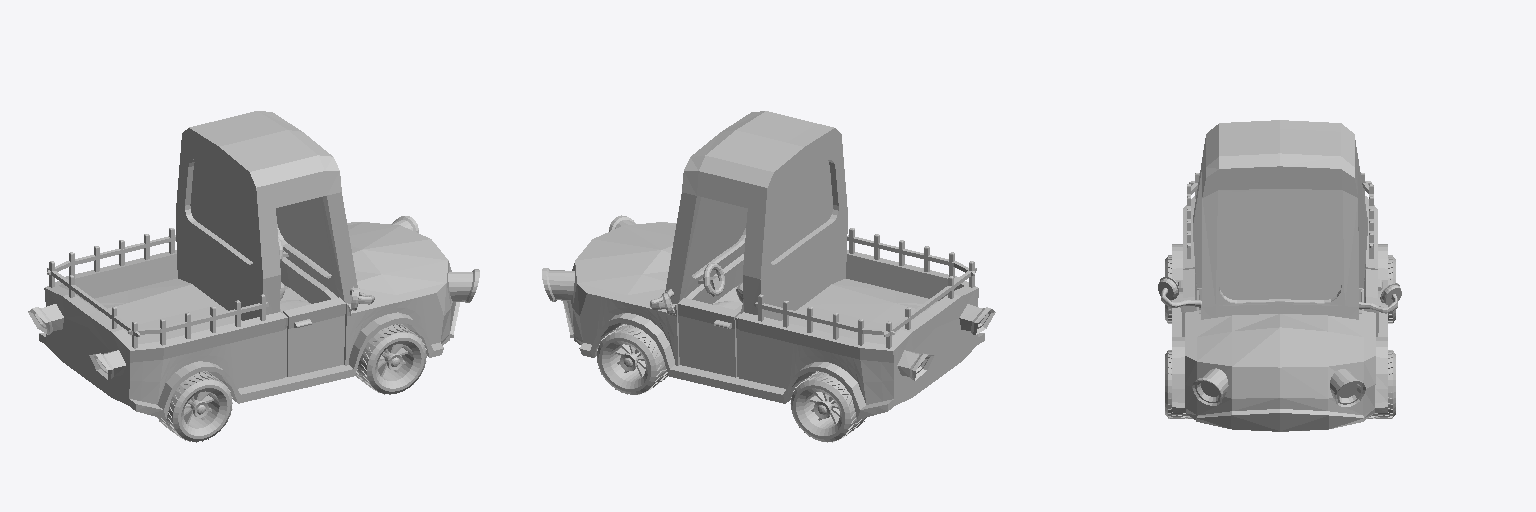
File: pinkCar.obj
3 renders of one model, left to right at view 1: azimuth 30°, elevation 25°; view 2: azimuth 150°, elevation 25°; view 3: azimuth 270°, elevation 25°, orthographic.
Parts seen in each view (by area): view 1: defaultMaterial.034_defaultMaterial.088, defaultMaterial.033_defaultMaterial.087, defaultMaterial.031_defaultMaterial.085, defaultMaterial.030_defaultMaterial.084, defaultMaterial.032_defaultMaterial.086, defaultMaterial.025_defaultMaterial.079, defaultMaterial.003_defaultMaterial.057, defaultMaterial.001_defaultMaterial.055, defaultMaterial.002_defaultMaterial.056; view 2: defaultMaterial.034_defaultMaterial.088, defaultMaterial.033_defaultMaterial.087, defaultMaterial.028_defaultMaterial.082, defaultMaterial.029_defaultMaterial.083, defaultMaterial.032_defaultMaterial.086, defaultMaterial.024_defaultMaterial.078, defaultMaterial.003_defaultMaterial.057, defaultMaterial.001_defaultMaterial.055, defaultMaterial.002_defaultMaterial.056, defaultMaterial.021_defaultMaterial.075; view 3: defaultMaterial.034_defaultMaterial.088, defaultMaterial.032_defaultMaterial.086, defaultMaterial.024_defaultMaterial.078, defaultMaterial.025_defaultMaterial.079, defaultMaterial.028_defaultMaterial.082, defaultMaterial.020_defaultMaterial.074, defaultMaterial_defaultMaterial.054, defaultMaterial.031_defaultMaterial.085.
Boxes of the visible parts, x1=… form: defaultMaterial.034_defaultMaterial.088: x1=28, y1=111, x2=459, y2=419; defaultMaterial.033_defaultMaterial.087: x1=190, y1=160, x2=253, y2=261; defaultMaterial.031_defaultMaterial.085: x1=355, y1=324, x2=426, y2=394; defaultMaterial.030_defaultMaterial.084: x1=157, y1=371, x2=232, y2=442; defaultMaterial.032_defaultMaterial.086: x1=276, y1=197, x2=331, y2=274; defaultMaterial.025_defaultMaterial.079: x1=448, y1=269, x2=479, y2=302; defaultMaterial.003_defaultMaterial.057: x1=128, y1=302, x2=269, y2=334; defaultMaterial.001_defaultMaterial.055: x1=47, y1=235, x2=175, y2=274; defaultMaterial.002_defaultMaterial.056: x1=47, y1=268, x2=139, y2=336; defaultMaterial.034_defaultMaterial.088: x1=563, y1=111, x2=995, y2=419; defaultMaterial.033_defaultMaterial.087: x1=770, y1=160, x2=832, y2=261; defaultMaterial.028_defaultMaterial.082: x1=597, y1=324, x2=667, y2=394; defaultMaterial.029_defaultMaterial.083: x1=790, y1=371, x2=866, y2=442; defaultMaterial.032_defaultMaterial.086: x1=692, y1=197, x2=747, y2=274; defaultMaterial.024_defaultMaterial.078: x1=542, y1=268, x2=574, y2=301; defaultMaterial.003_defaultMaterial.057: x1=847, y1=235, x2=974, y2=275; defaultMaterial.001_defaultMaterial.055: x1=754, y1=302, x2=894, y2=335; defaultMaterial.002_defaultMaterial.056: x1=884, y1=268, x2=976, y2=336; defaultMaterial.021_defaultMaterial.075: x1=698, y1=263, x2=724, y2=296; defaultMaterial.034_defaultMaterial.088: x1=1172, y1=120, x2=1387, y2=431; defaultMaterial.032_defaultMaterial.086: x1=1219, y1=191, x2=1341, y2=299; defaultMaterial.024_defaultMaterial.078: x1=1330, y1=369, x2=1365, y2=406; defaultMaterial.025_defaultMaterial.079: x1=1192, y1=368, x2=1228, y2=405; defaultMaterial.028_defaultMaterial.082: x1=1368, y1=350, x2=1395, y2=418; defaultMaterial.020_defaultMaterial.074: x1=1158, y1=277, x2=1201, y2=307; defaultMaterial_defaultMaterial.054: x1=1359, y1=283, x2=1401, y2=313; defaultMaterial.031_defaultMaterial.085: x1=1165, y1=350, x2=1192, y2=418.
Bounding box in the file's own units: 3.43 × 2.02 × 1.89.